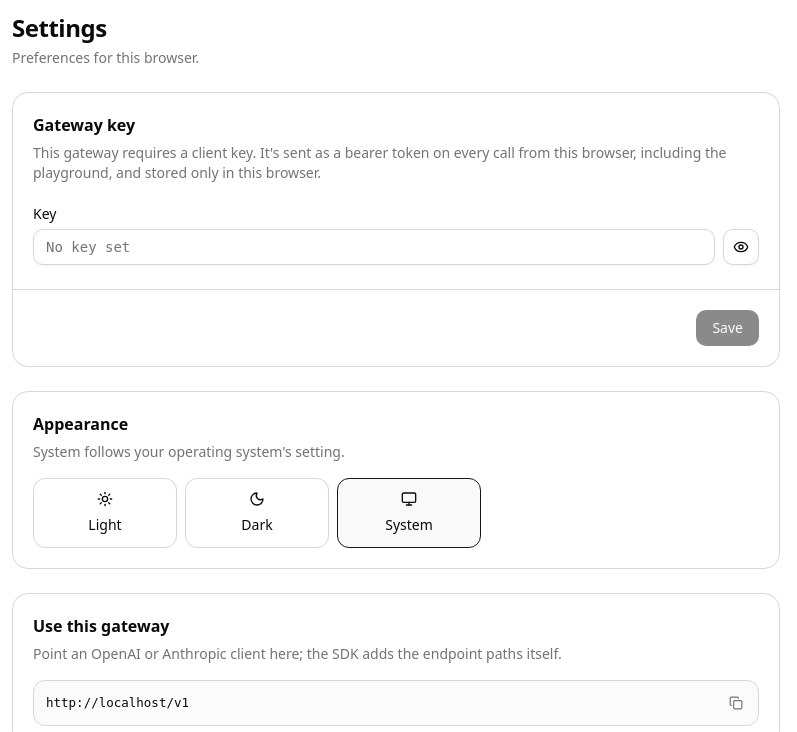
Test case: SettingsPage › saves the gateway key, masked until shown, and clears it
Expected: the button "Save" is disabled, [696,310,759,346]
Type "sk-gw-1" into the password field labelled "Key".
click(374, 247); type("sk-gw-1")  # box [33,229,715,265]
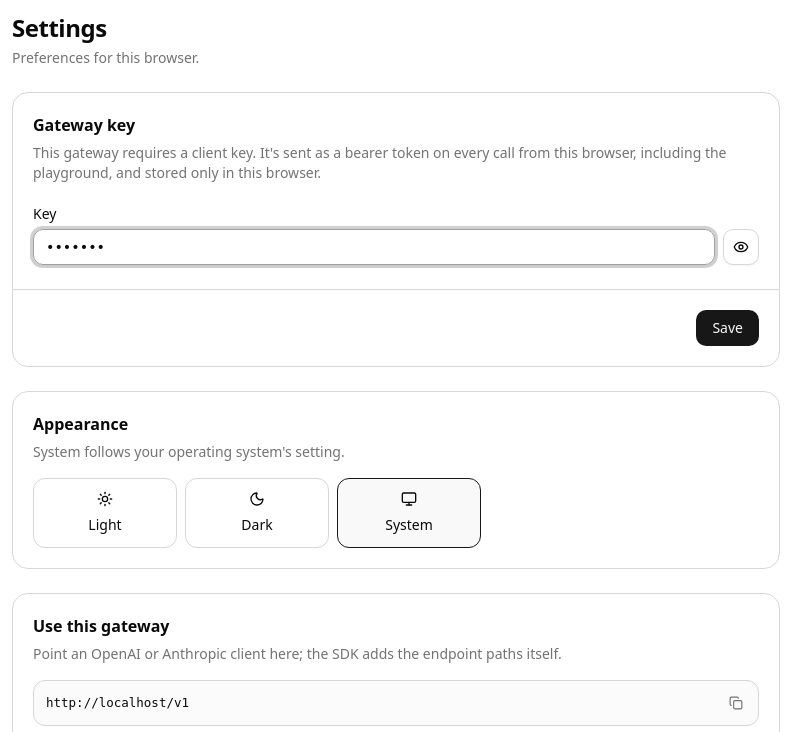
Click the button "Save".
click(728, 328)  # box [696,310,759,346]
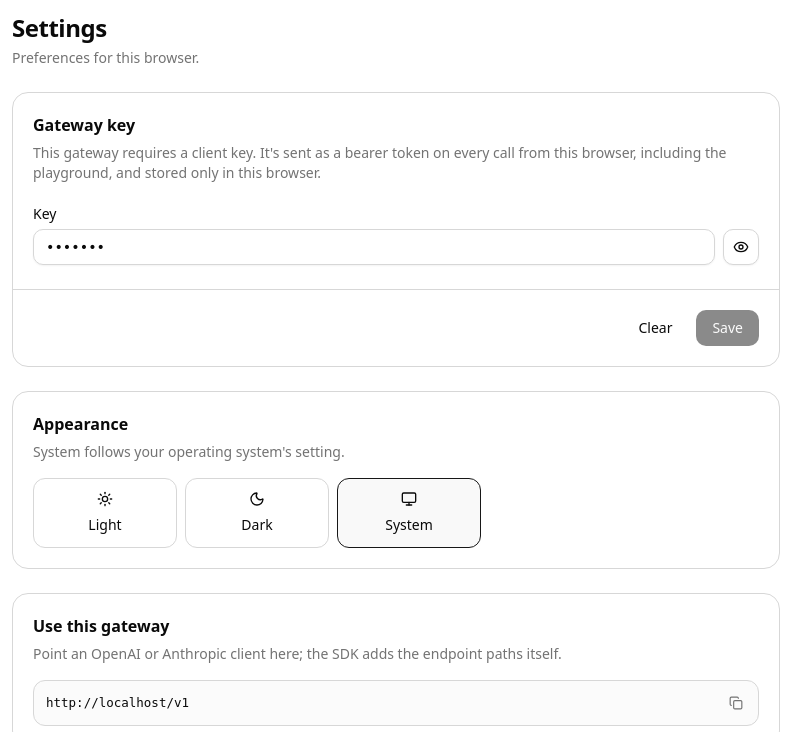
Click the button named "Show key".
click(741, 247)  # box [723,229,759,265]
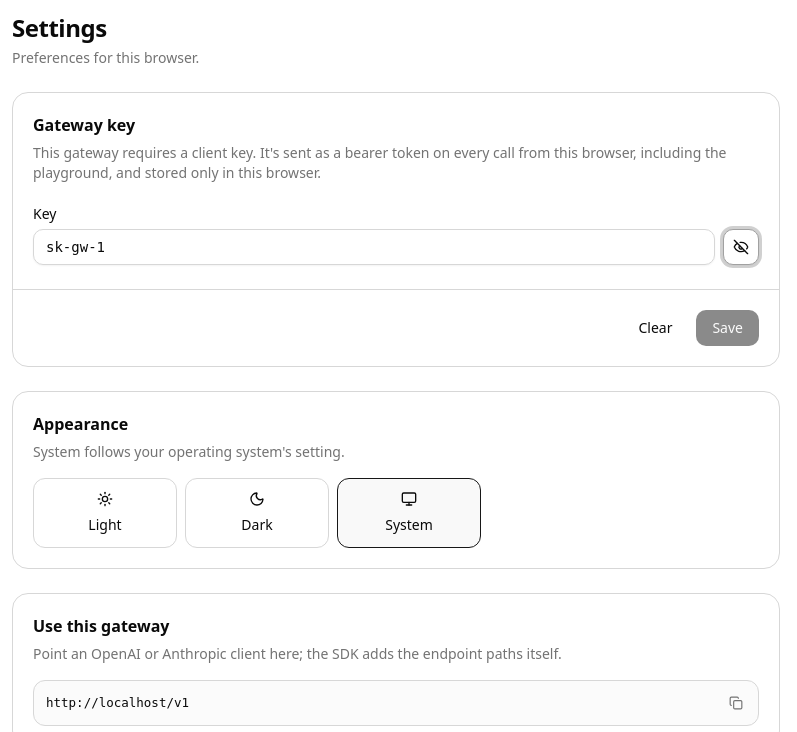
Result: the field labelled "Key" holds "sk-gw-1" at [33,229,715,265]
Result: the field labelled "Key" shows its text at [33,229,715,265]
Click the button "Clear".
click(655, 328)  # box [622,310,688,346]
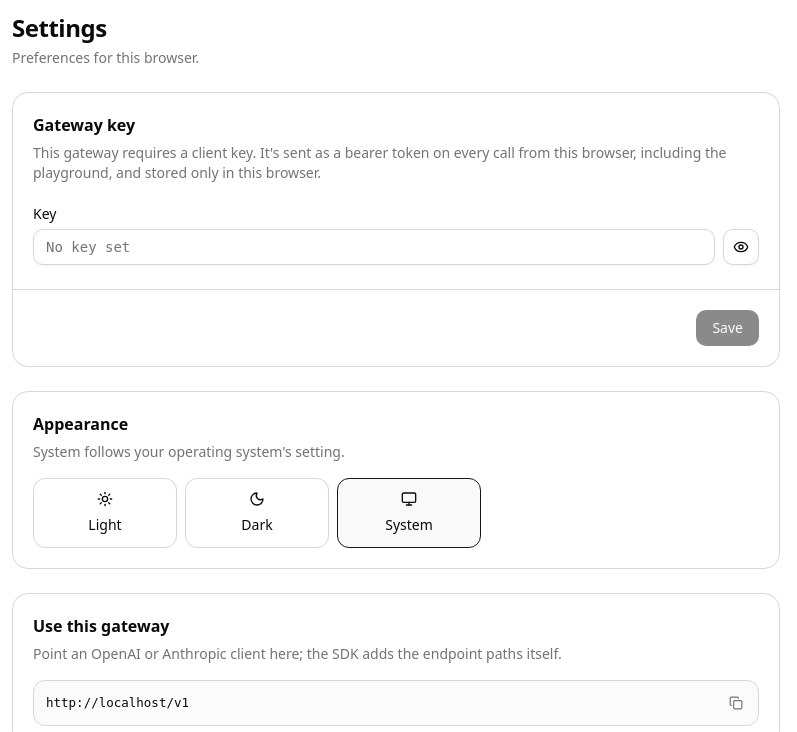
Result: the password field labelled "Key" is empty at [33,229,715,265]
